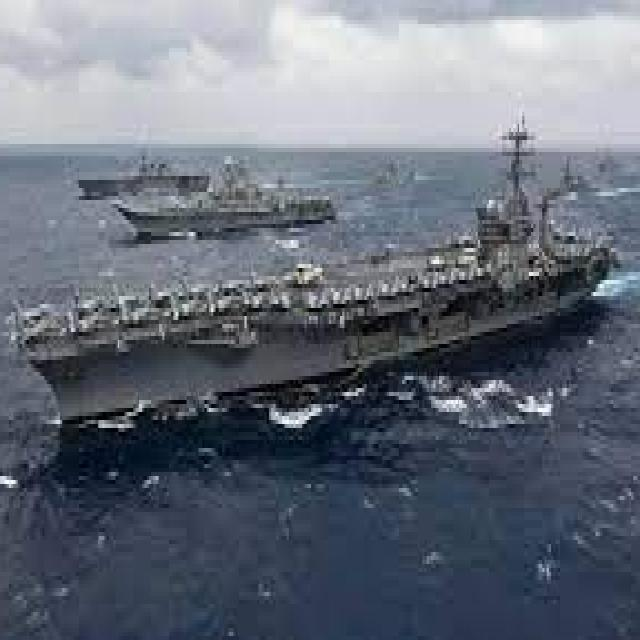navalvessels: (24, 136, 620, 434), (128, 176, 345, 268), (88, 134, 220, 200)
